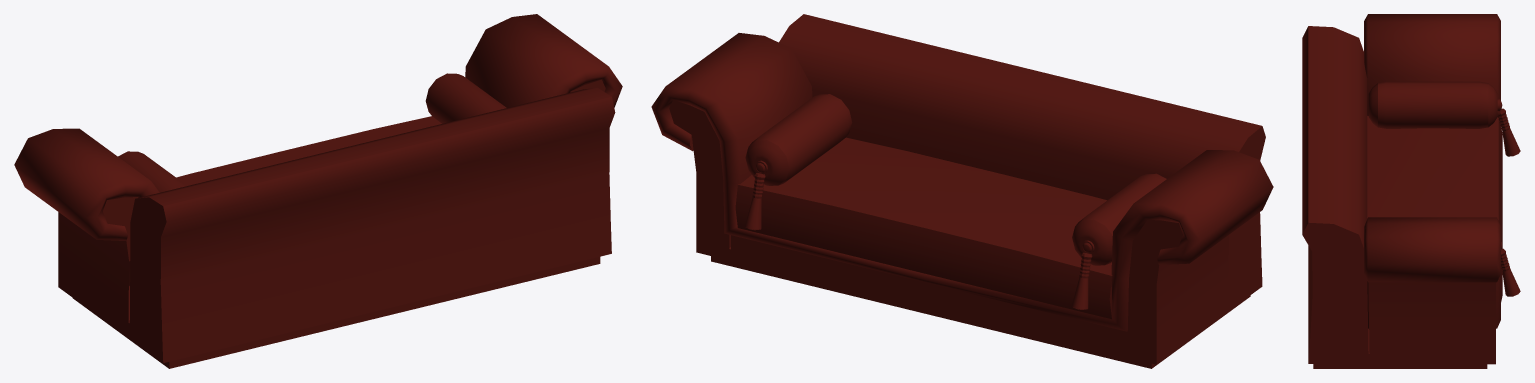
Rendered from SM_Couch_B.fbx.
3 renders of one model, left to right at view 1: azimuth 30°, elevation 25°; view 2: azimuth 150°, elevation 25°; view 3: azimuth 270°, elevation 25°, orthographic. The views are drawn at different scales.
Parts seen in each view (by area): view 1: SM_Couch_B; view 2: SM_Couch_B; view 3: SM_Couch_B.
Boxes of the visible parts, bbox=[...] form: SM_Couch_B: bbox=[14, 14, 622, 368]; SM_Couch_B: bbox=[651, 14, 1273, 368]; SM_Couch_B: bbox=[1302, 14, 1520, 368].
Bounding box in the file's own units: 333 × 100 × 131.
